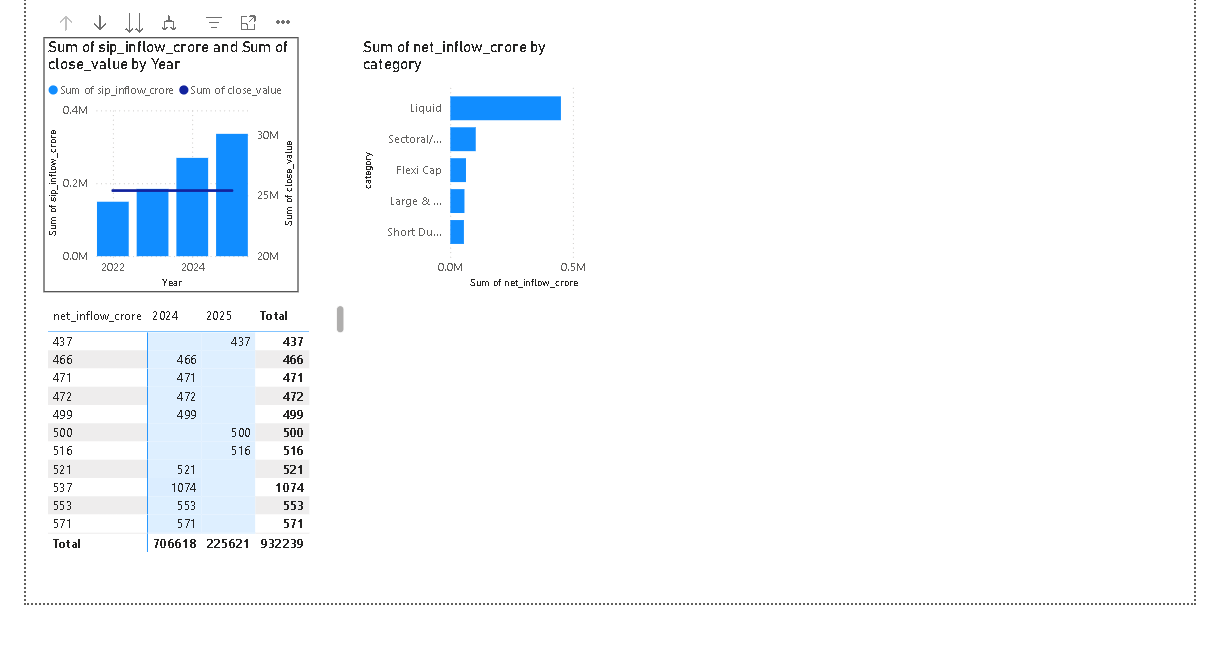

What the dashboard file says about the page in this screenshot:
{"tool":"powerbi","page":{"name":"SIP & Market Trends","canvas":[1280,720],"ordinal":3},"visuals":[{"type":"lineClusteredColumnComboChart","fields":{"Category":["04_monthly_sip_inflows.month.Variation.Date Hierarchy.Year","04_monthly_sip_inflows.month.Variation.Date Hierarchy.Quarter","04_monthly_sip_inflows.month.Variation.Date Hierarchy.Month","04_monthly_sip_inflows.month.Variation.Date Hierarchy.Day"],"Y":["Sum(04_monthly_sip_inflows.sip_inflow_crore)"],"Y2":["Sum(10_benchmark_indices.close_value)"]},"box":[19.2,100.2,279.9,279.9],"z":0},{"type":"pivotTable","fields":{"Rows":["05_category_inflows.net_inflow_crore"],"Columns":["05_category_inflows.month.Variation.Date Hierarchy.Year","05_category_inflows.month.Variation.Date Hierarchy.Quarter","05_category_inflows.month.Variation.Date Hierarchy.Month","05_category_inflows.month.Variation.Date Hierarchy.Day"],"Values":["Sum(05_category_inflows.net_inflow_crore)"]},"box":[19.2,389.7,334.8,279.9],"z":1},{"type":"clusteredBarChart","fields":{"Category":["05_category_inflows.category"],"Y":["Sum(05_category_inflows.net_inflow_crore)"]},"box":[364,100,280,280],"z":2}]}

Visuals, with their boxes on the page's 1280x720 design canvas (x1, y1, x2, y2). These are canvas units, not pixel positions in the 1232x652 screenshot, which may show the page scaled, cropped or inside an application window:
lineClusteredColumnComboChart - 04_monthly_sip_inflows.month.Variation.Date Hierarchy.Year x 04_monthly_sip_inflows.month.Variation.Date Hierarchy.Quarter: BBox(19, 100, 299, 380)
pivotTable - 05_category_inflows.net_inflow_crore x 05_category_inflows.month.Variation.Date Hierarchy.Year: BBox(19, 390, 354, 670)
clusteredBarChart - 05_category_inflows.category x Sum(05_category_inflows.net_inflow_crore): BBox(364, 100, 644, 380)
